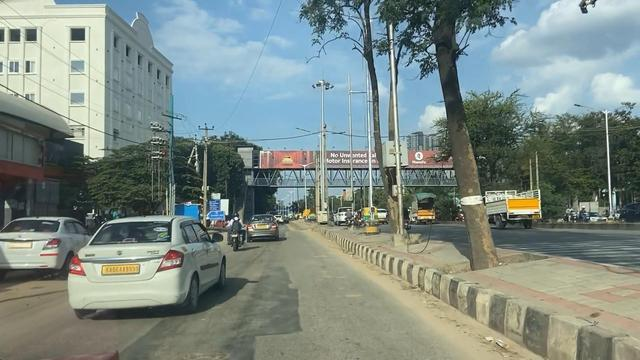LMV: (68, 213, 219, 318), (230, 209, 248, 252)
UnsurfacedRoad: (197, 300, 307, 353), (227, 252, 316, 277)
